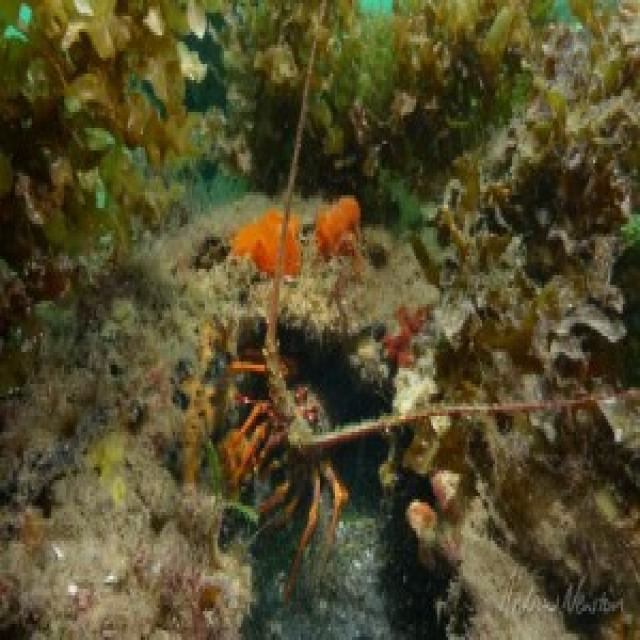lobsters: (223, 327, 369, 593)
